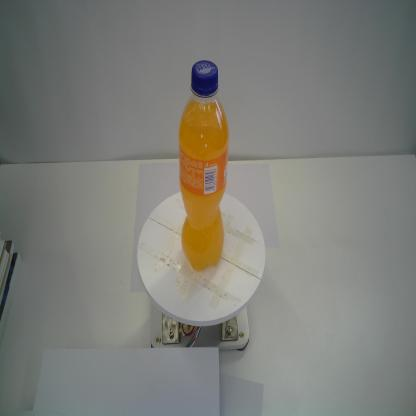Drink: (176, 59, 230, 275)
